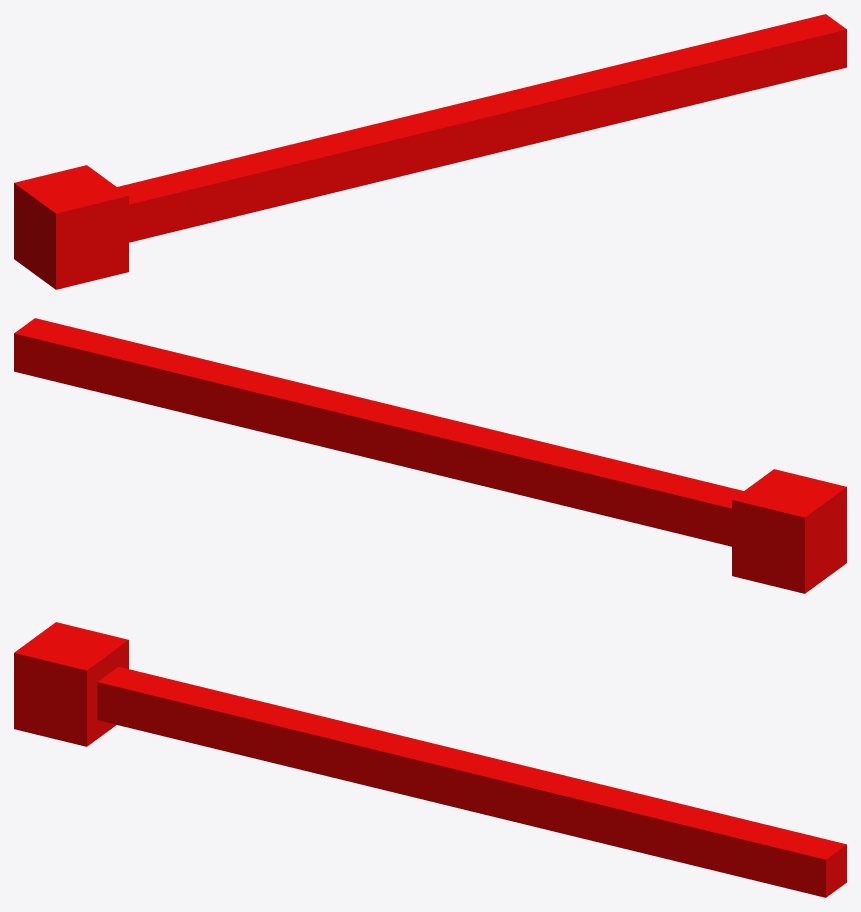
File: RedArow.fbx
3 renders of one model, top to bottom at view 1: azimuth 30°, elevation 25°; view 2: azimuth 150°, elevation 25°; view 3: azimuth 330°, elevation 25°, orthographic.
Parts seen in each view (by area): view 1: 立方体; view 2: 立方体; view 3: 立方体.
Part boxes in pixels (left/top/right/bottom): 立方体: left=14, top=14, right=846, bottom=289; 立方体: left=14, top=318, right=846, bottom=593; 立方体: left=14, top=622, right=846, bottom=897.
Bounding box in the file's own units: 220 × 20 × 20.
1 material, 1 textured.
